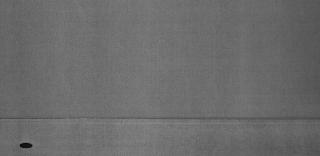punching hole: (16, 140, 36, 150)
welding line: (2, 114, 320, 124)
